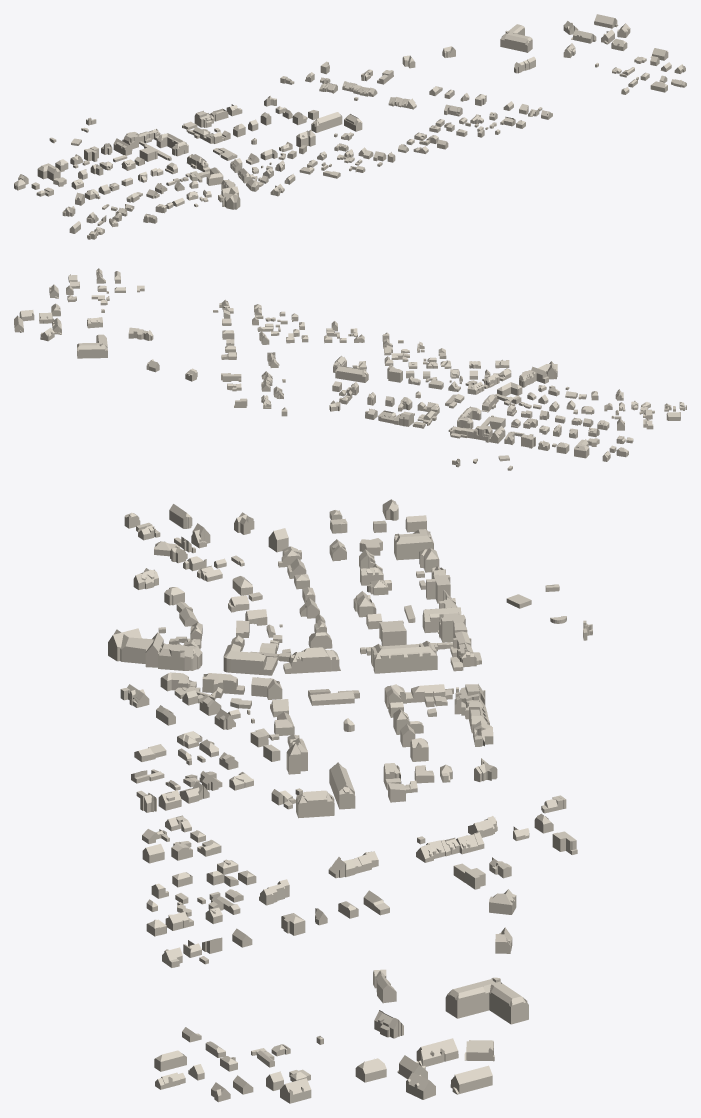
3 views of the same model, one above another, from view 1: azimuth 30°, elevation 25°; view 2: azimuth 150°, elevation 25°; view 3: azimuth 270°, elevation 25° (orthographic). The views are drawn at different scales.
Size of the model in its own units: 881 by 21.07 by 306.
